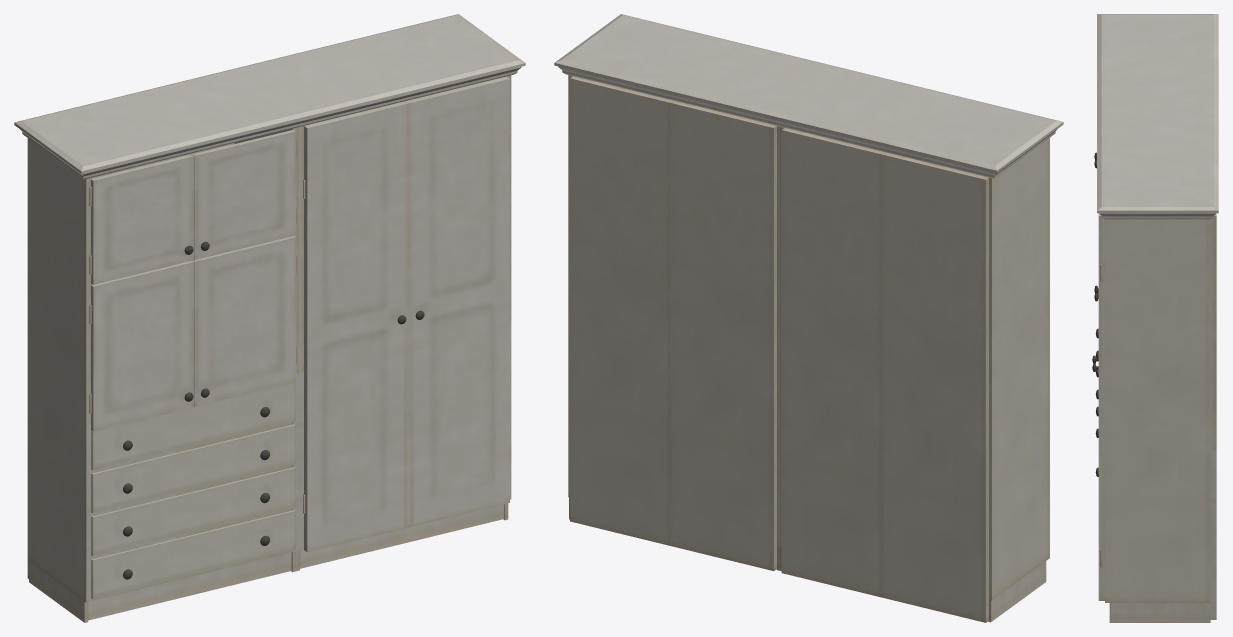
The model's file is ClothCloset_withWall.FBX.
3 renders of one model, left to right at view 1: azimuth 30°, elevation 25°; view 2: azimuth 150°, elevation 25°; view 3: azimuth 270°, elevation 25°, orthographic. The views are drawn at different scales.
Parts seen in each view (by area): view 1: ClothCloset_withWall, Closet_Door_R, Closet_Door_L, Closet_Door_Down_R, Closet_Door_Down_L, Closet_Door_Up_R, Closet_Door_Up_L, Drawer_B, Drawer_C, Drawer_D, Drawer_A; view 2: ClothCloset_withWall; view 3: ClothCloset_withWall, Closet_Door_L.
Boxes of the visible parts, x1,y1,x2,y2 form: ClothCloset_withWall: [14, 14, 525, 622]; Closet_Door_R: [303, 101, 408, 552]; Closet_Door_L: [405, 76, 511, 527]; Closet_Door_Down_R: [89, 260, 194, 431]; Closet_Door_Down_L: [193, 236, 297, 406]; Closet_Door_Up_R: [89, 154, 194, 284]; Closet_Door_Up_L: [192, 130, 297, 259]; Drawer_B: [91, 424, 295, 513]; Drawer_C: [91, 467, 295, 556]; Drawer_D: [91, 510, 295, 598]; Drawer_A: [91, 382, 295, 470]; ClothCloset_withWall: [554, 14, 1063, 622]; ClothCloset_withWall: [1097, 14, 1218, 622]; Closet_Door_L: [1092, 213, 1104, 600].
Size of the model in its own units: 219 by 218 by 59.47.
